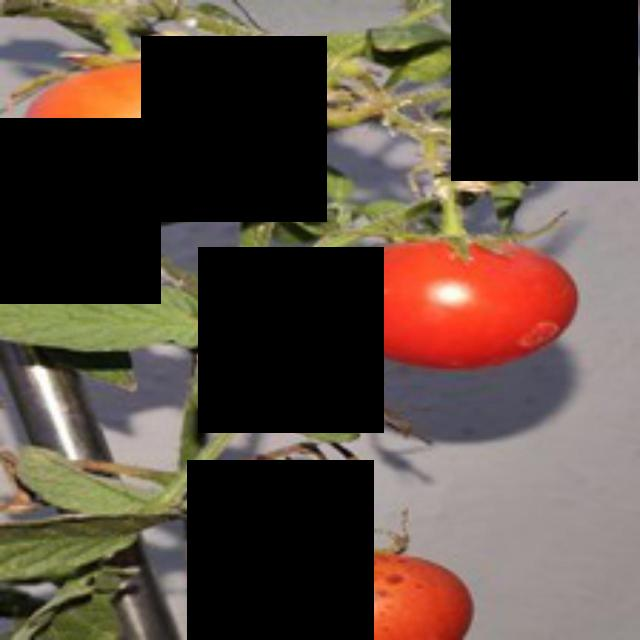tomato: (25, 56, 306, 207), (339, 220, 578, 366), (242, 546, 480, 636)
